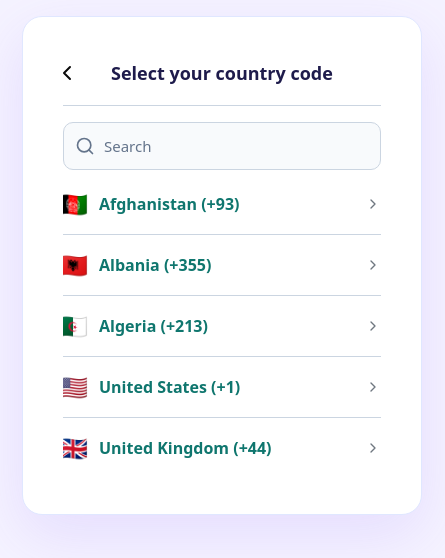
it: MfaCountryCodesScreen › should show 'No countries found' message when search has no results
Expected: the heading "Select your country code" is shown, [111,58,333,86]
Type "xyz123" into the field with placeholder "Search" at (222,146), box [63,122,381,170]
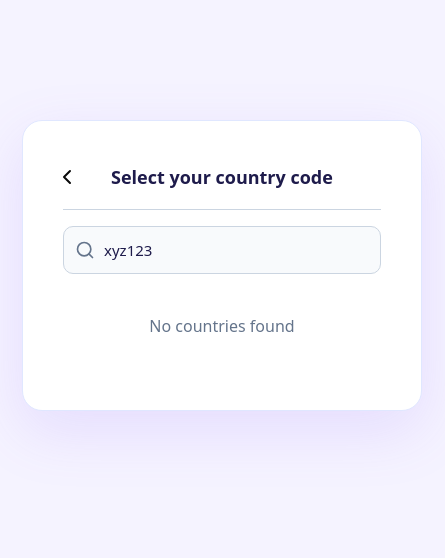
Expected: the text "No countries found" is shown, [149,314,295,336]
Expected: the button "Afghanistan" is gone
